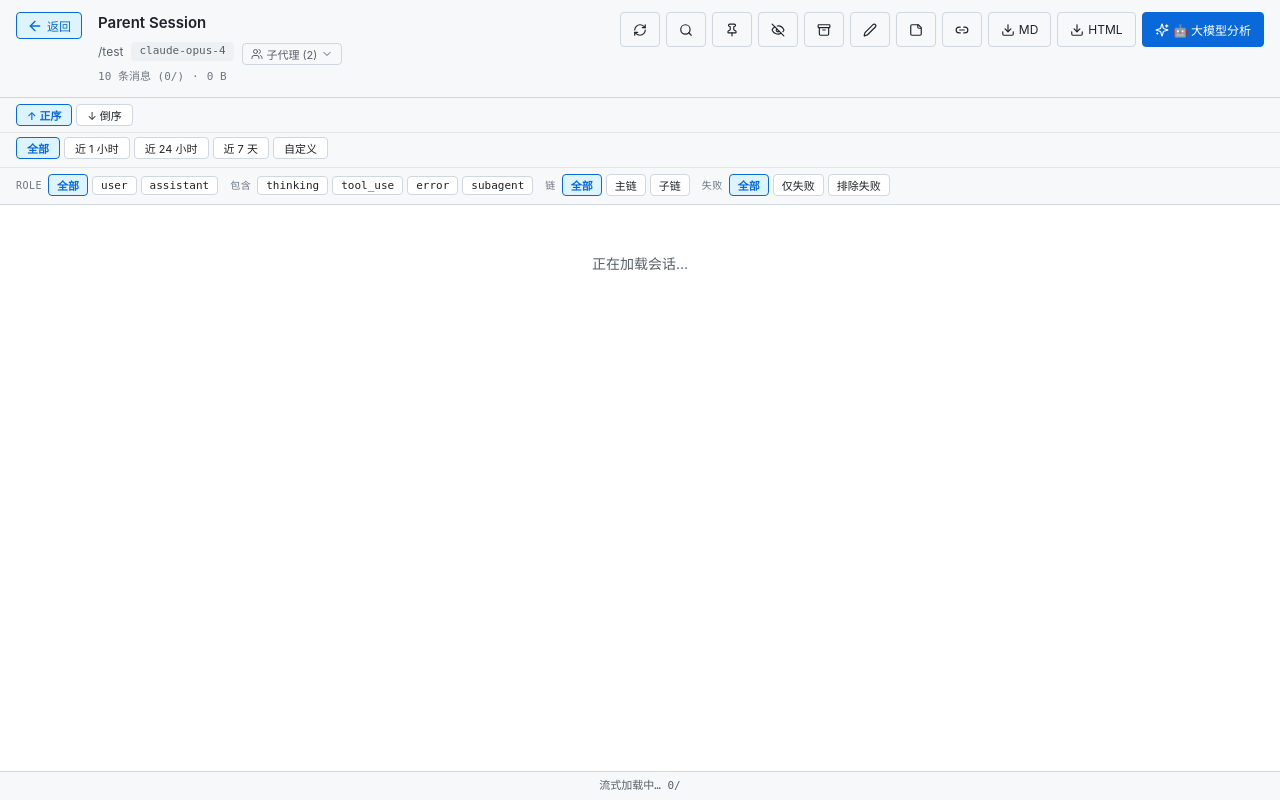
Test: SessionDetailRoute — reload 按钮 (v0.8.11) › reload 中按钮 disabled + className 含 reloading
Click the button with test id "reload-btn" at (640, 30), box x1=620 y1=12 x2=660 y2=47
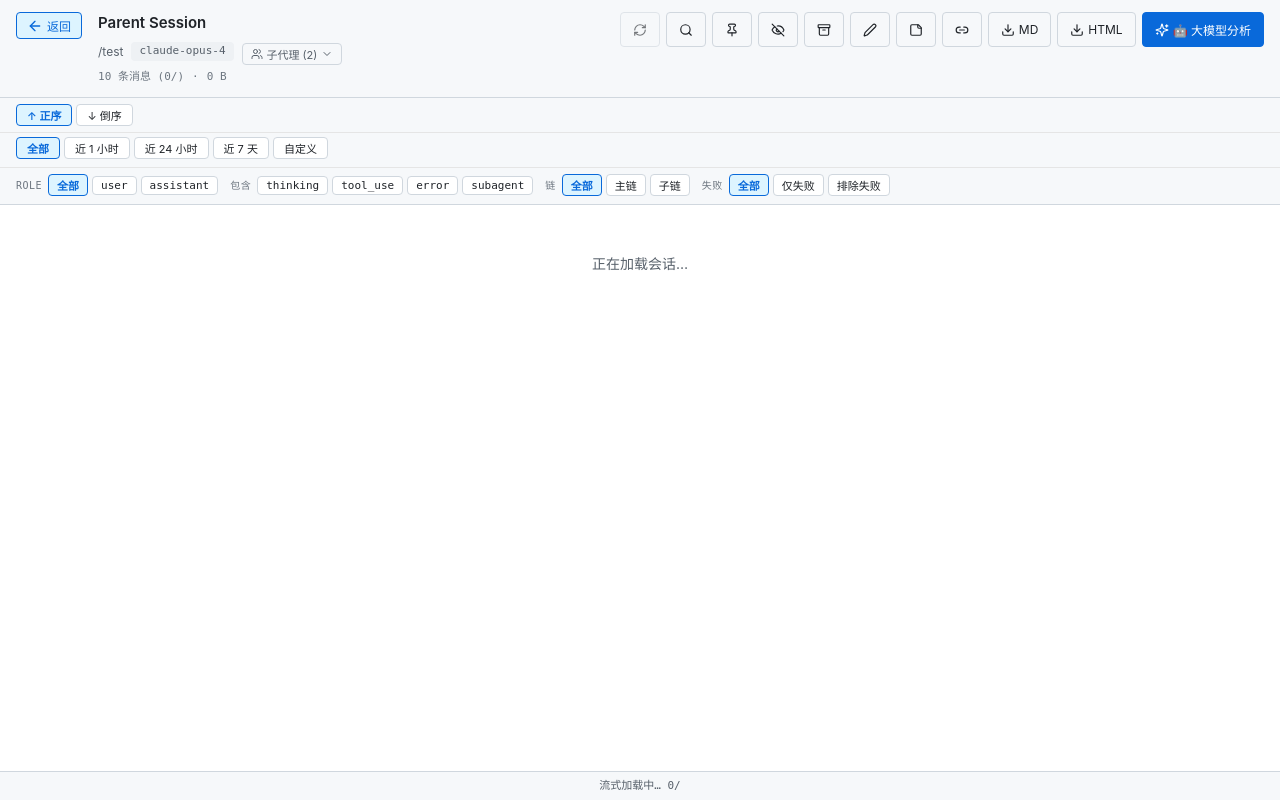
Now the button with test id "reload-btn" is disabled, box x1=620 y1=12 x2=660 y2=47
